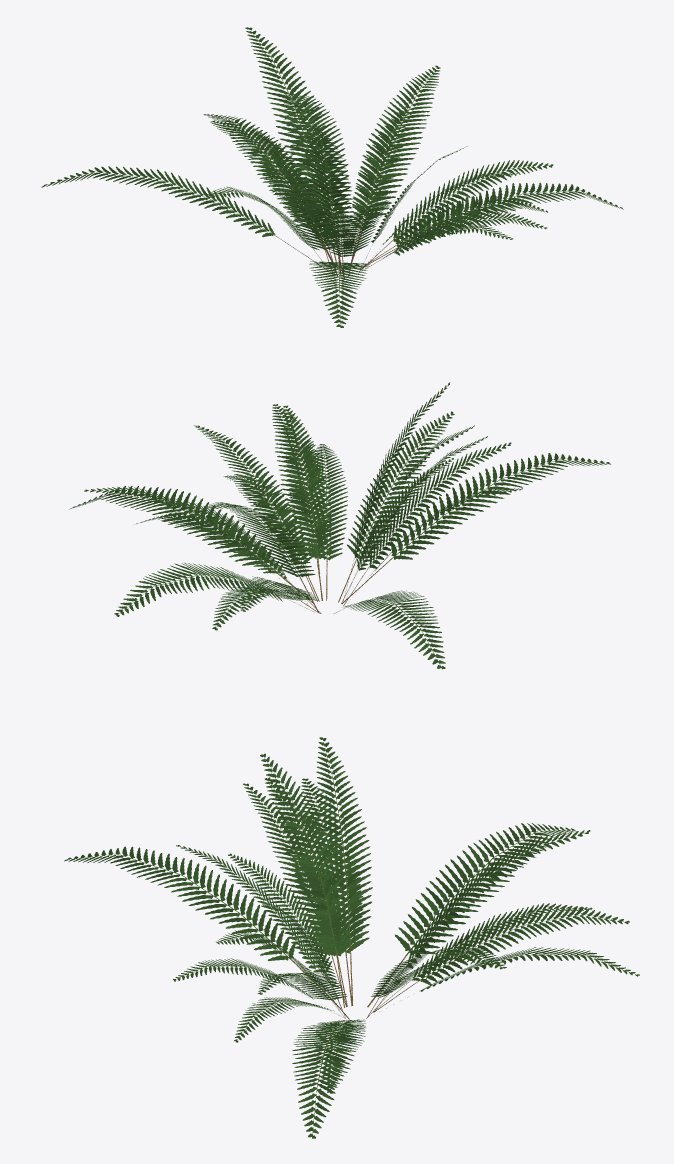
File: hoh_sword_fern.glb
3 views of the same model, one above another, from view 1: azimuth 30°, elevation 25°; view 2: azimuth 150°, elevation 25°; view 3: azimuth 270°, elevation 25° (orthographic). The views are drawn at different scales.
Visible parts, largest first — view 1: hoh_sword_fern; view 2: hoh_sword_fern; view 3: hoh_sword_fern.
Part boxes in pixels (<box>): hoh_sword_fern: <box>41,27,623,327</box>; hoh_sword_fern: <box>69,382,610,669</box>; hoh_sword_fern: <box>64,737,639,1138</box>.
Size of the model in its own units: 1.73 by 0.6811 by 1.62.
Materials: 1 (1 with a texture image).
